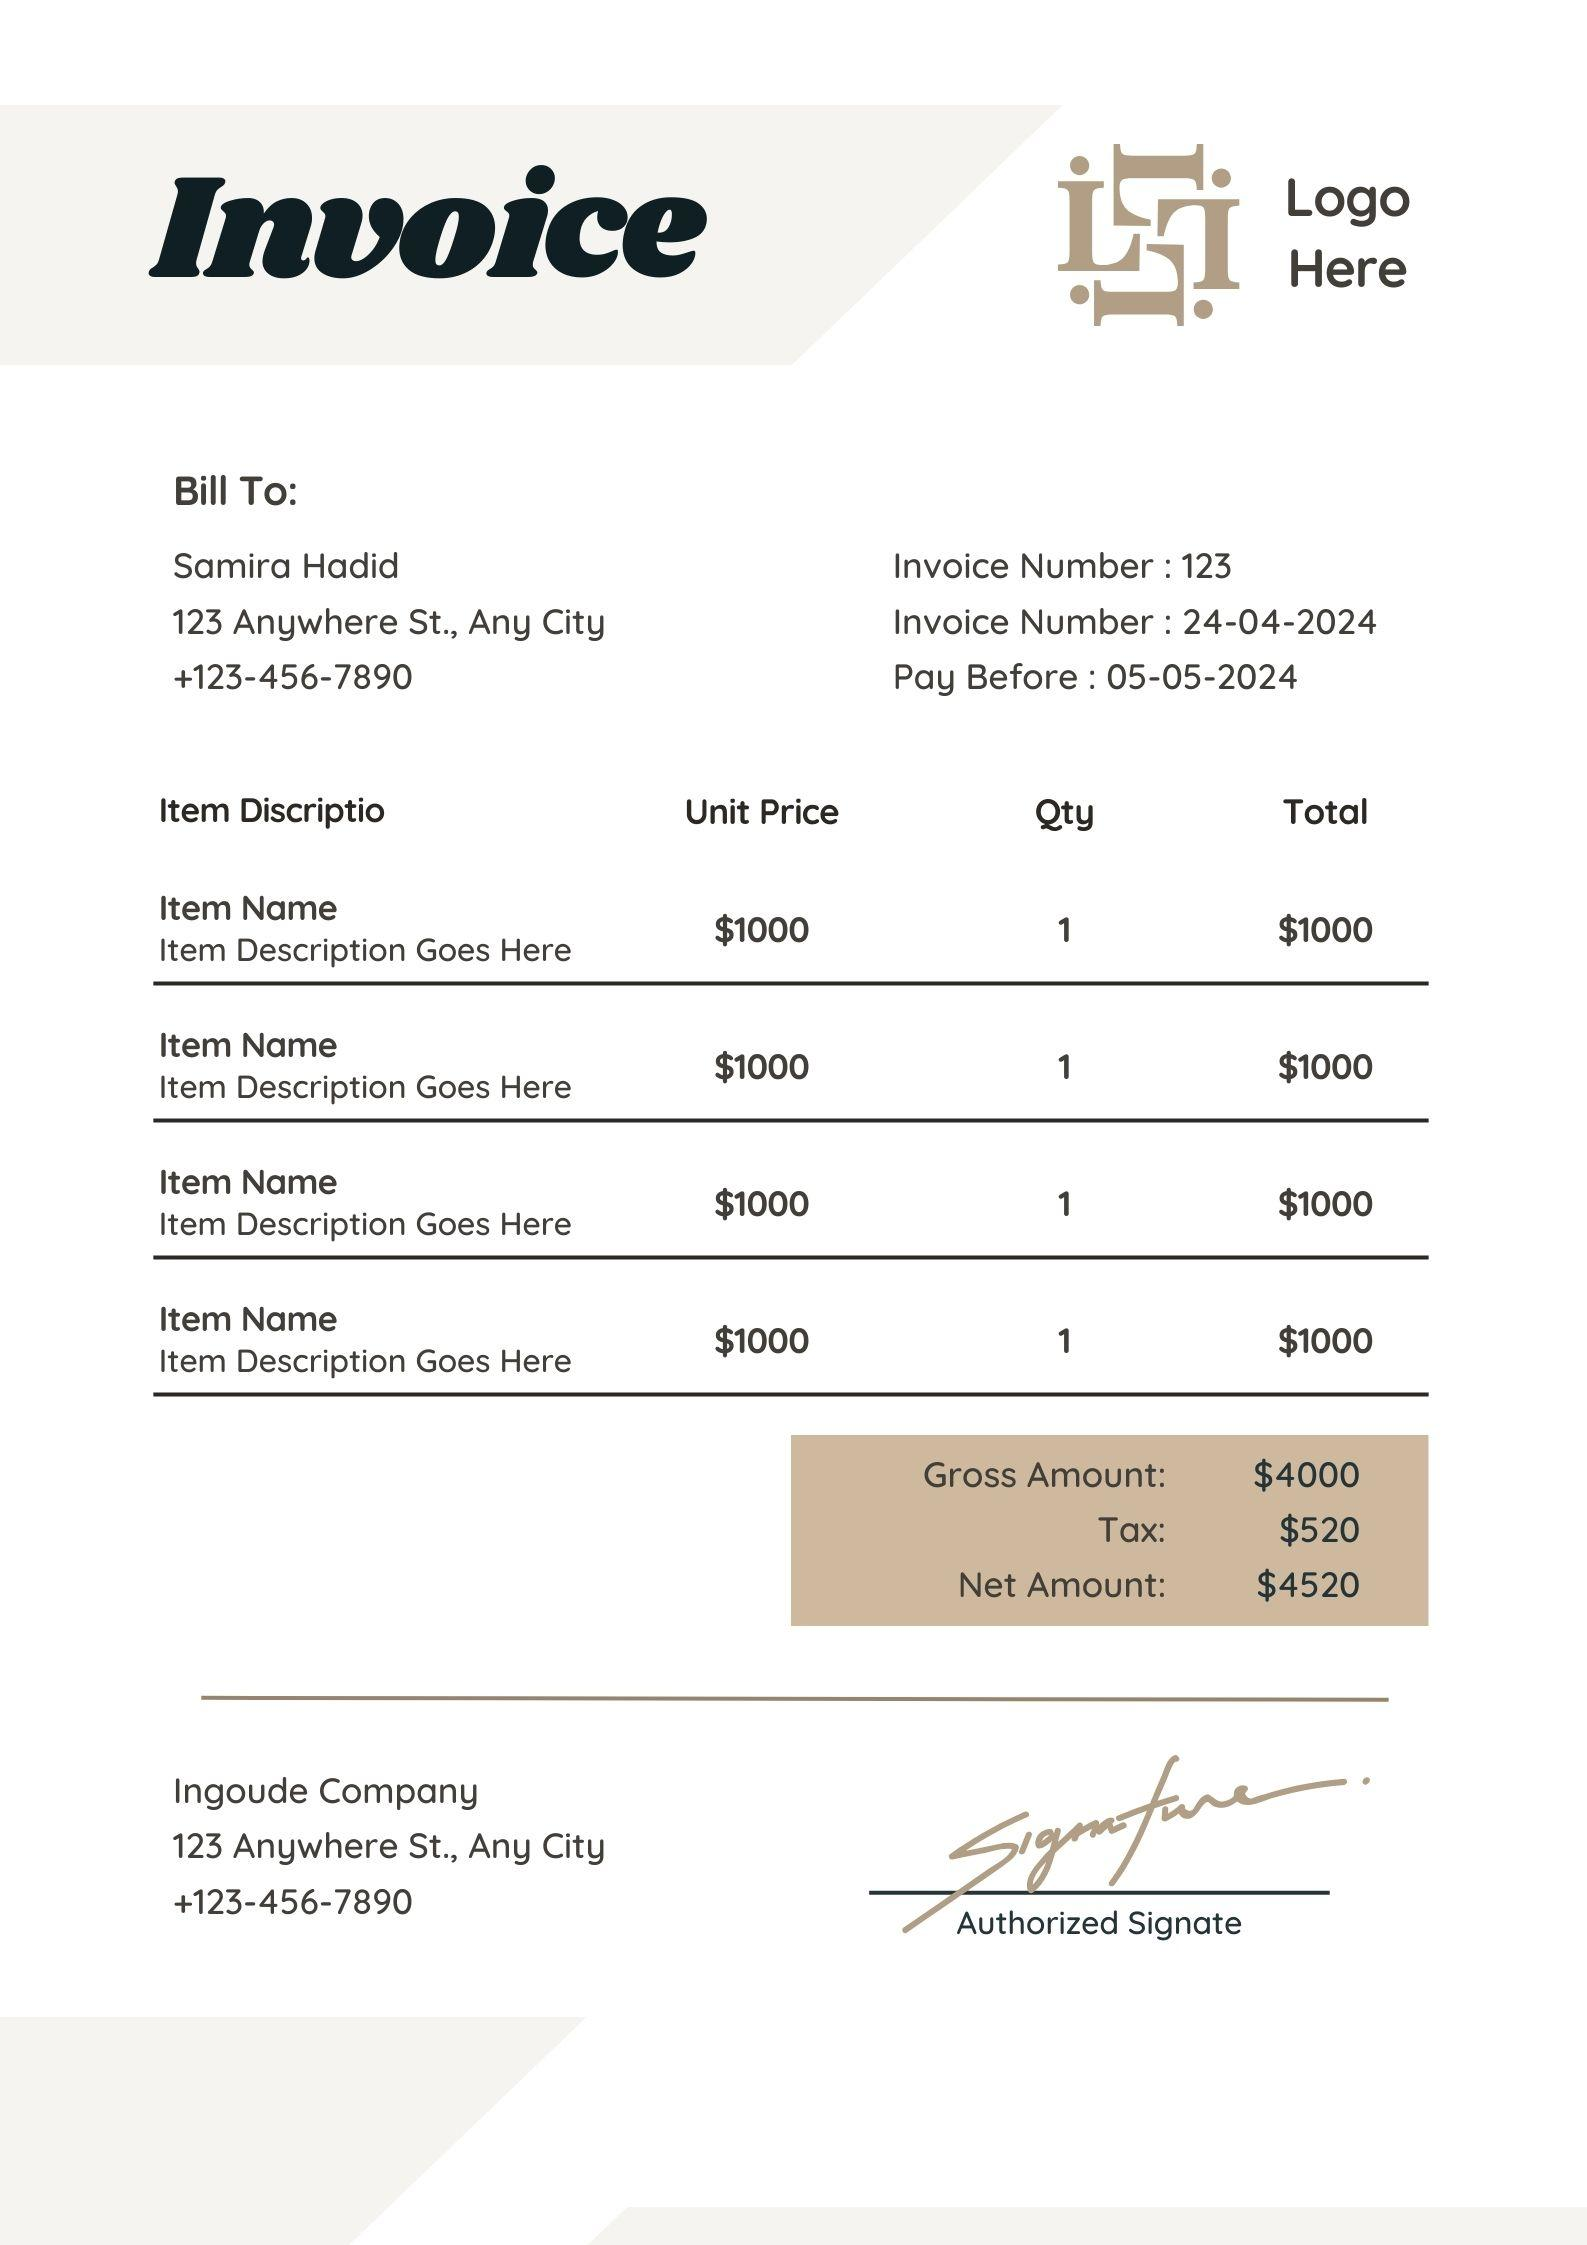ROI: (137, 783, 1440, 1407), (147, 450, 753, 723), (790, 1437, 1437, 1620), (873, 533, 1397, 717), (153, 1760, 647, 1940)
